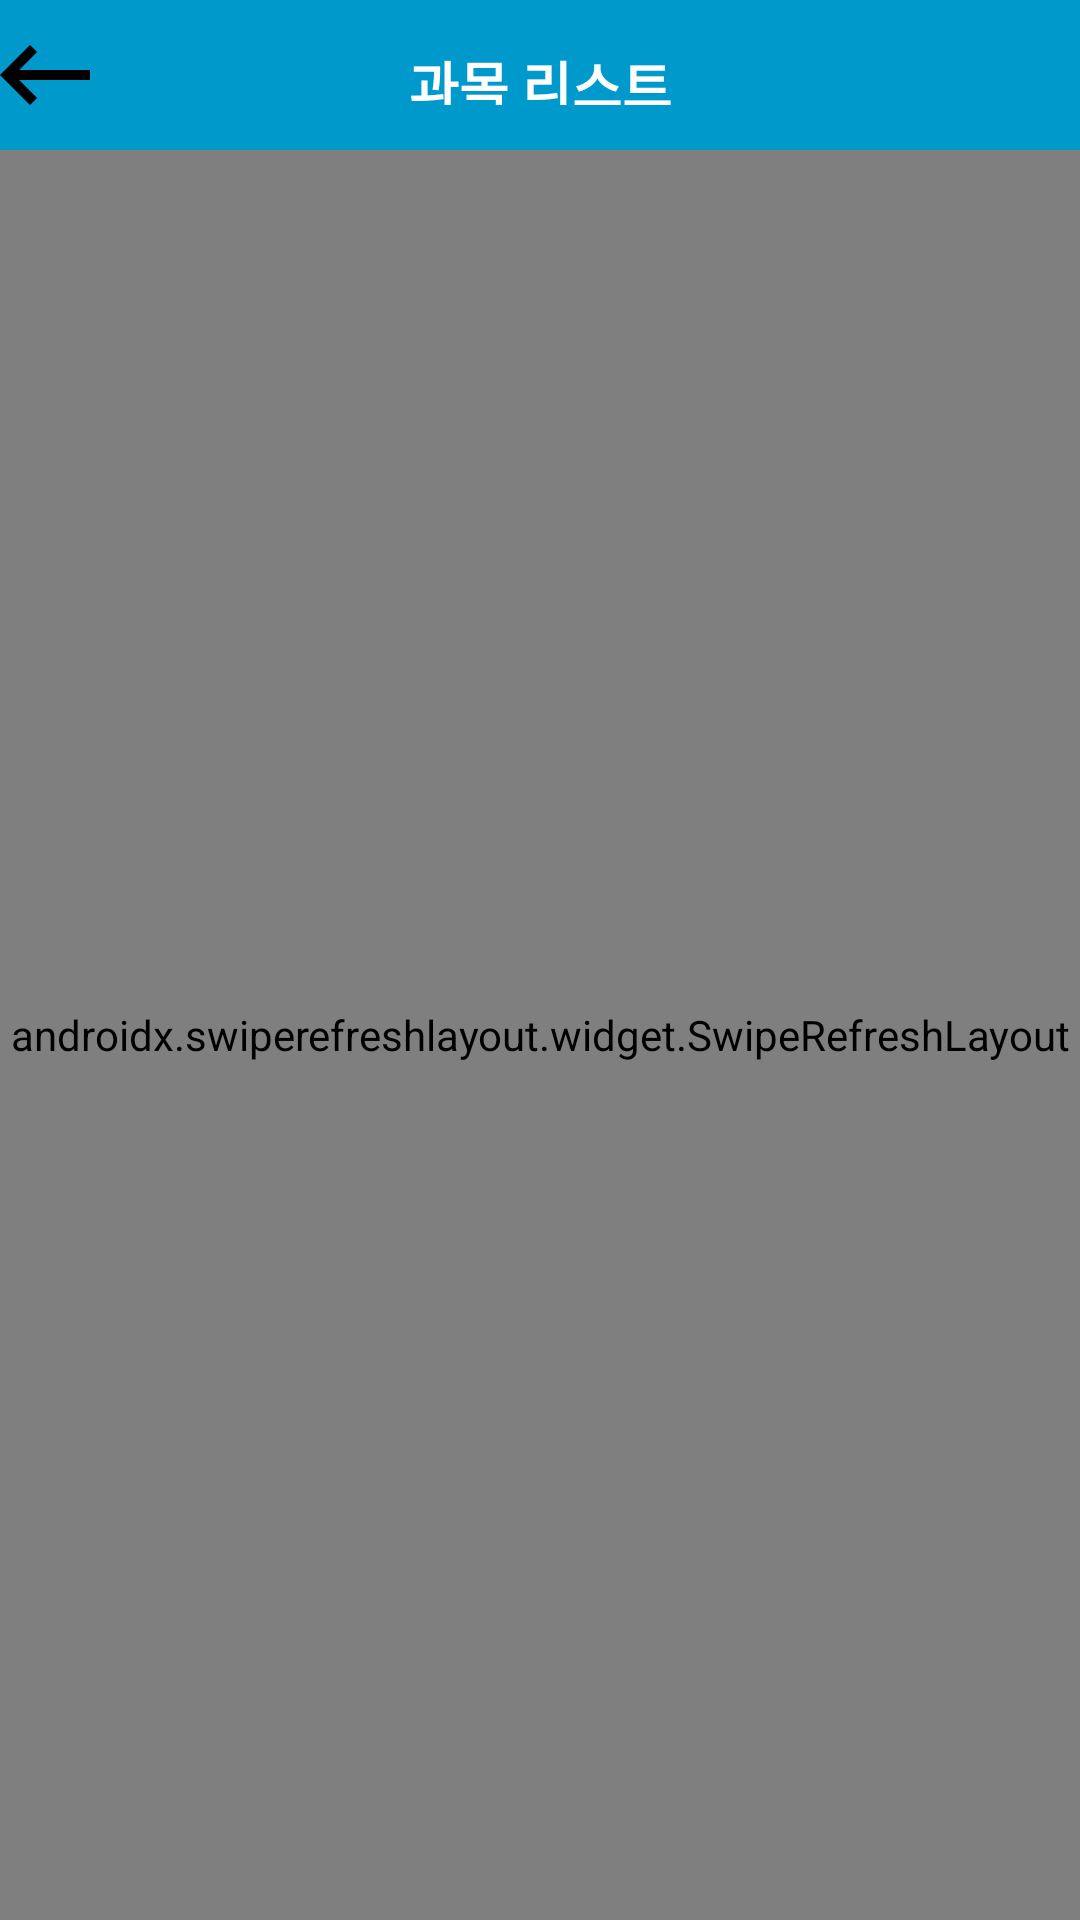

Locate icon controls on the screen. Image size 1080x1920, boxes as [x1,y1,x2,y2].
back: [0,45,90,105]
